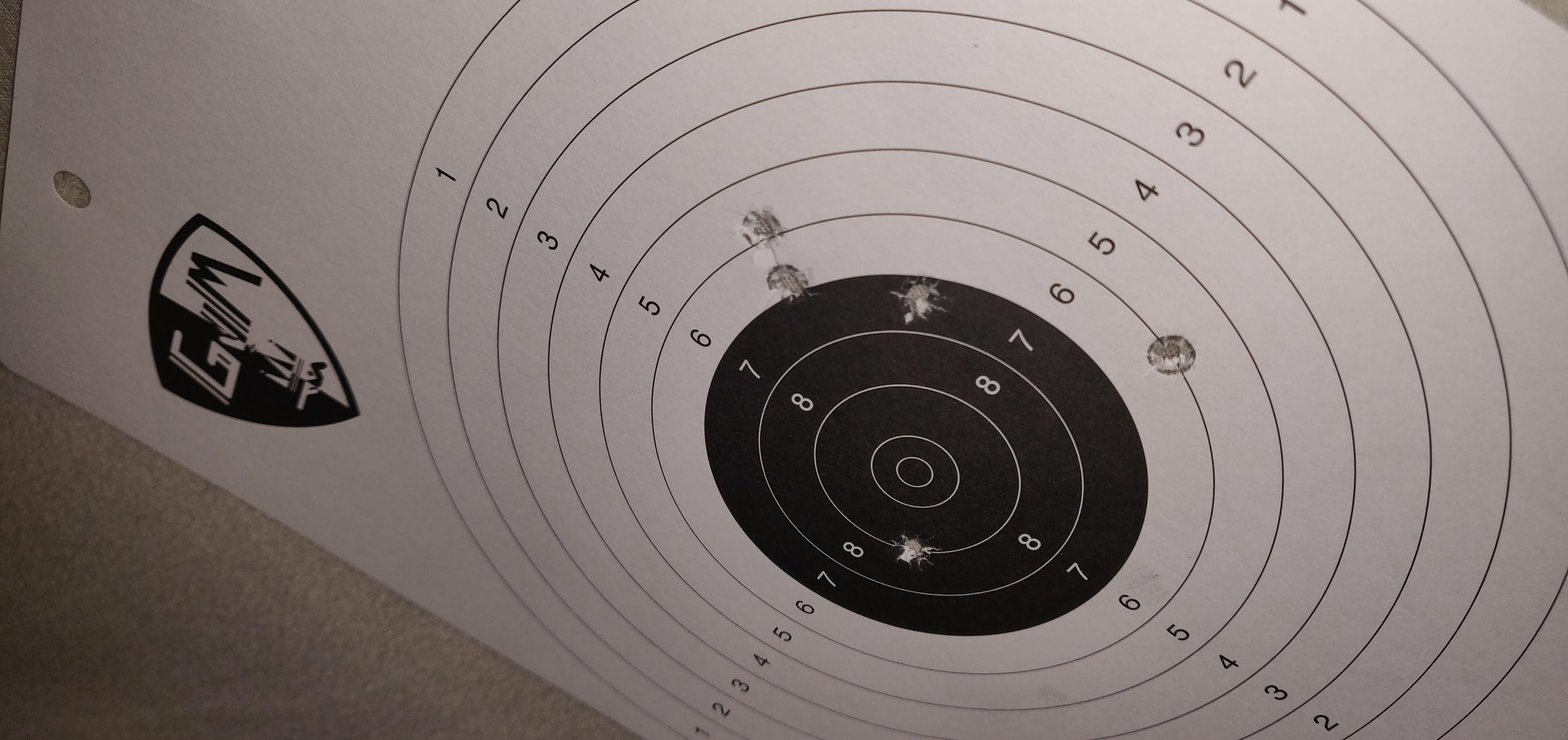hole: (620, 415, 677, 465), (371, 363, 422, 408), (753, 433, 803, 477), (626, 169, 677, 208), (782, 489, 828, 532)
